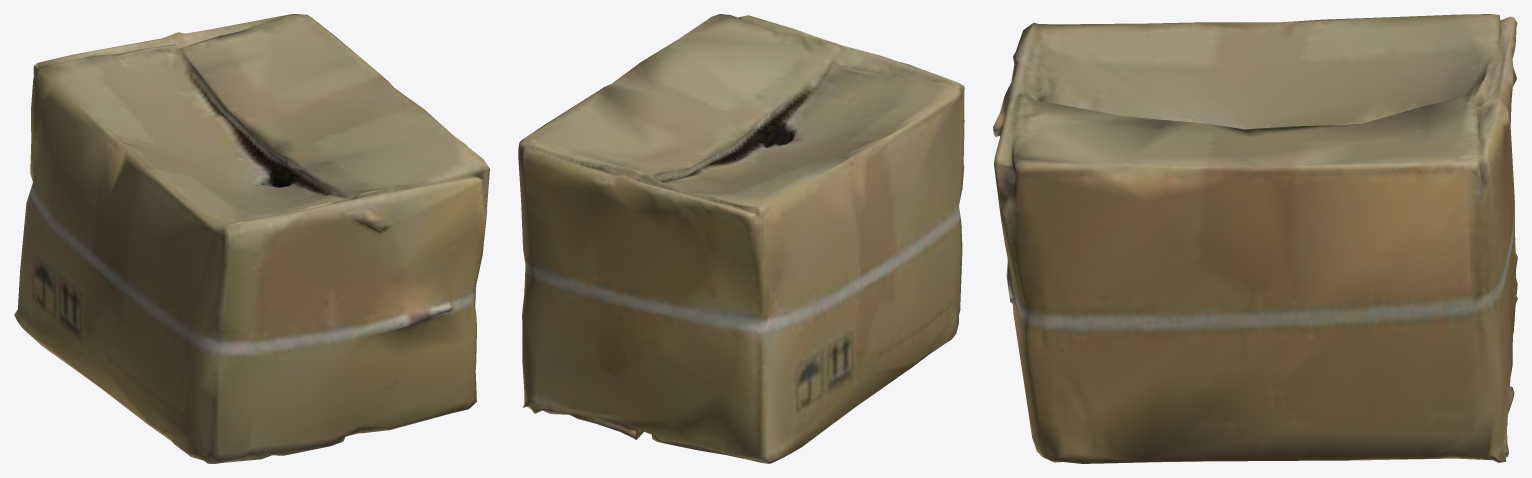
Rendered from cardboard_box_01.glb.
3 renders of one model, left to right at view 1: azimuth 30°, elevation 25°; view 2: azimuth 150°, elevation 25°; view 3: azimuth 270°, elevation 25°, orthographic. The views are drawn at different scales.
Visible parts, largest first — view 1: cardboard_box_01; view 2: cardboard_box_01; view 3: cardboard_box_01.
Part boxes in pixels (x1,y1,x2,y2): cardboard_box_01: (14,14,489,463); cardboard_box_01: (518,14,964,463); cardboard_box_01: (993,14,1517,463).
Bounding box in the file's own units: 0.3868 × 0.3407 × 0.5159.
Materials: 1 (1 with a texture image).
